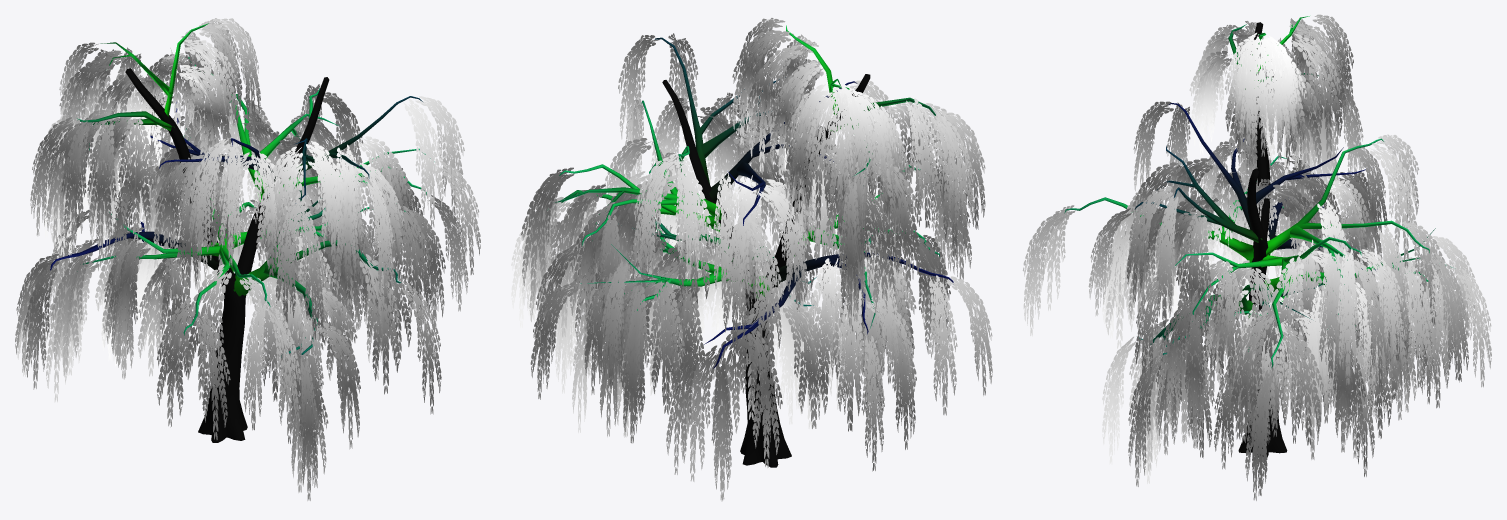
File: Willow01.fbx
The picture shows the model from 3 angles, left to right: view 1: azimuth 30°, elevation 25°; view 2: azimuth 150°, elevation 25°; view 3: azimuth 270°, elevation 25°; orthographic projection. The views are drawn at different scales.
Parts seen in each view (by area): view 1: willowleaftex2_1, _0; view 2: willowleaftex2_1, _0; view 3: willowleaftex2_1, _0.
Part boxes in pixels (box(x1,y1,x2,y2)): willowleaftex2_1: box(15, 18, 480, 500); _0: box(50, 23, 434, 442); willowleaftex2_1: box(511, 18, 992, 501); _0: box(547, 25, 953, 467); willowleaftex2_1: box(1022, 14, 1491, 500); _0: box(1064, 16, 1452, 457).
Size of the model in its own units: 626 by 587 by 580.
